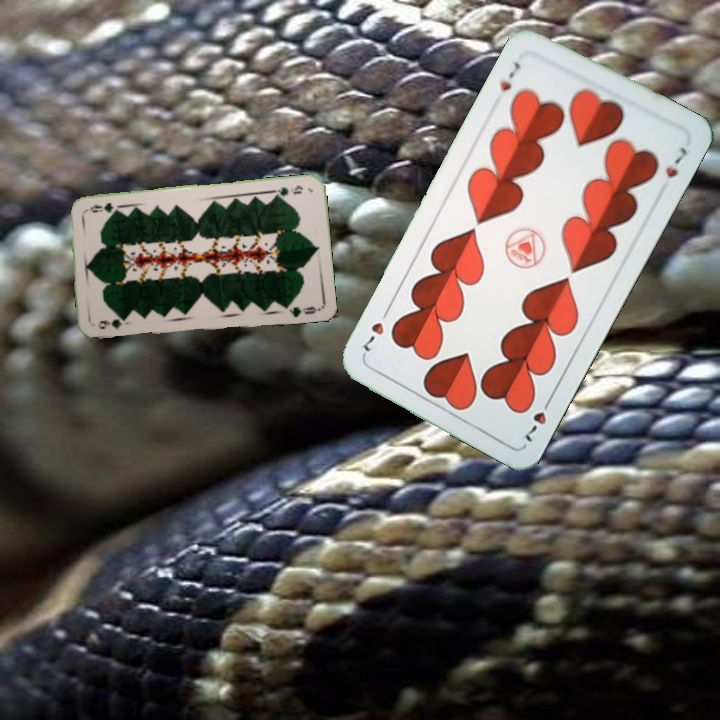G9: (94, 314, 133, 332), (269, 182, 305, 200)
H7: (519, 392, 555, 445), (494, 57, 524, 94)
